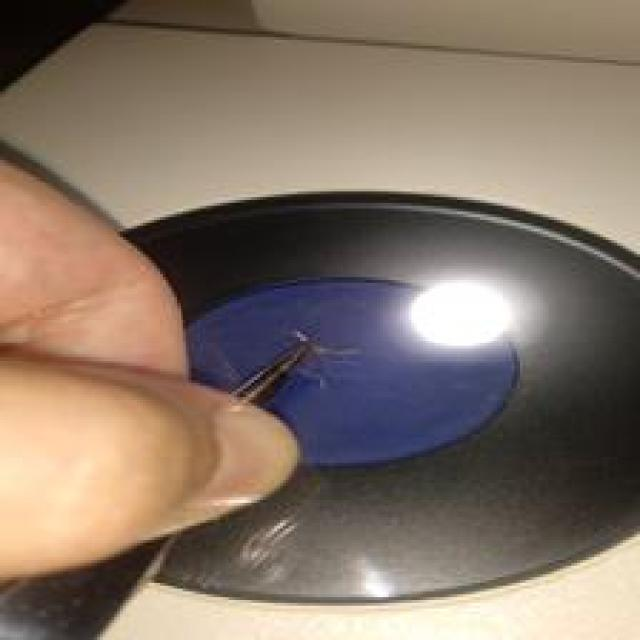Culex: (114, 188, 640, 606)
